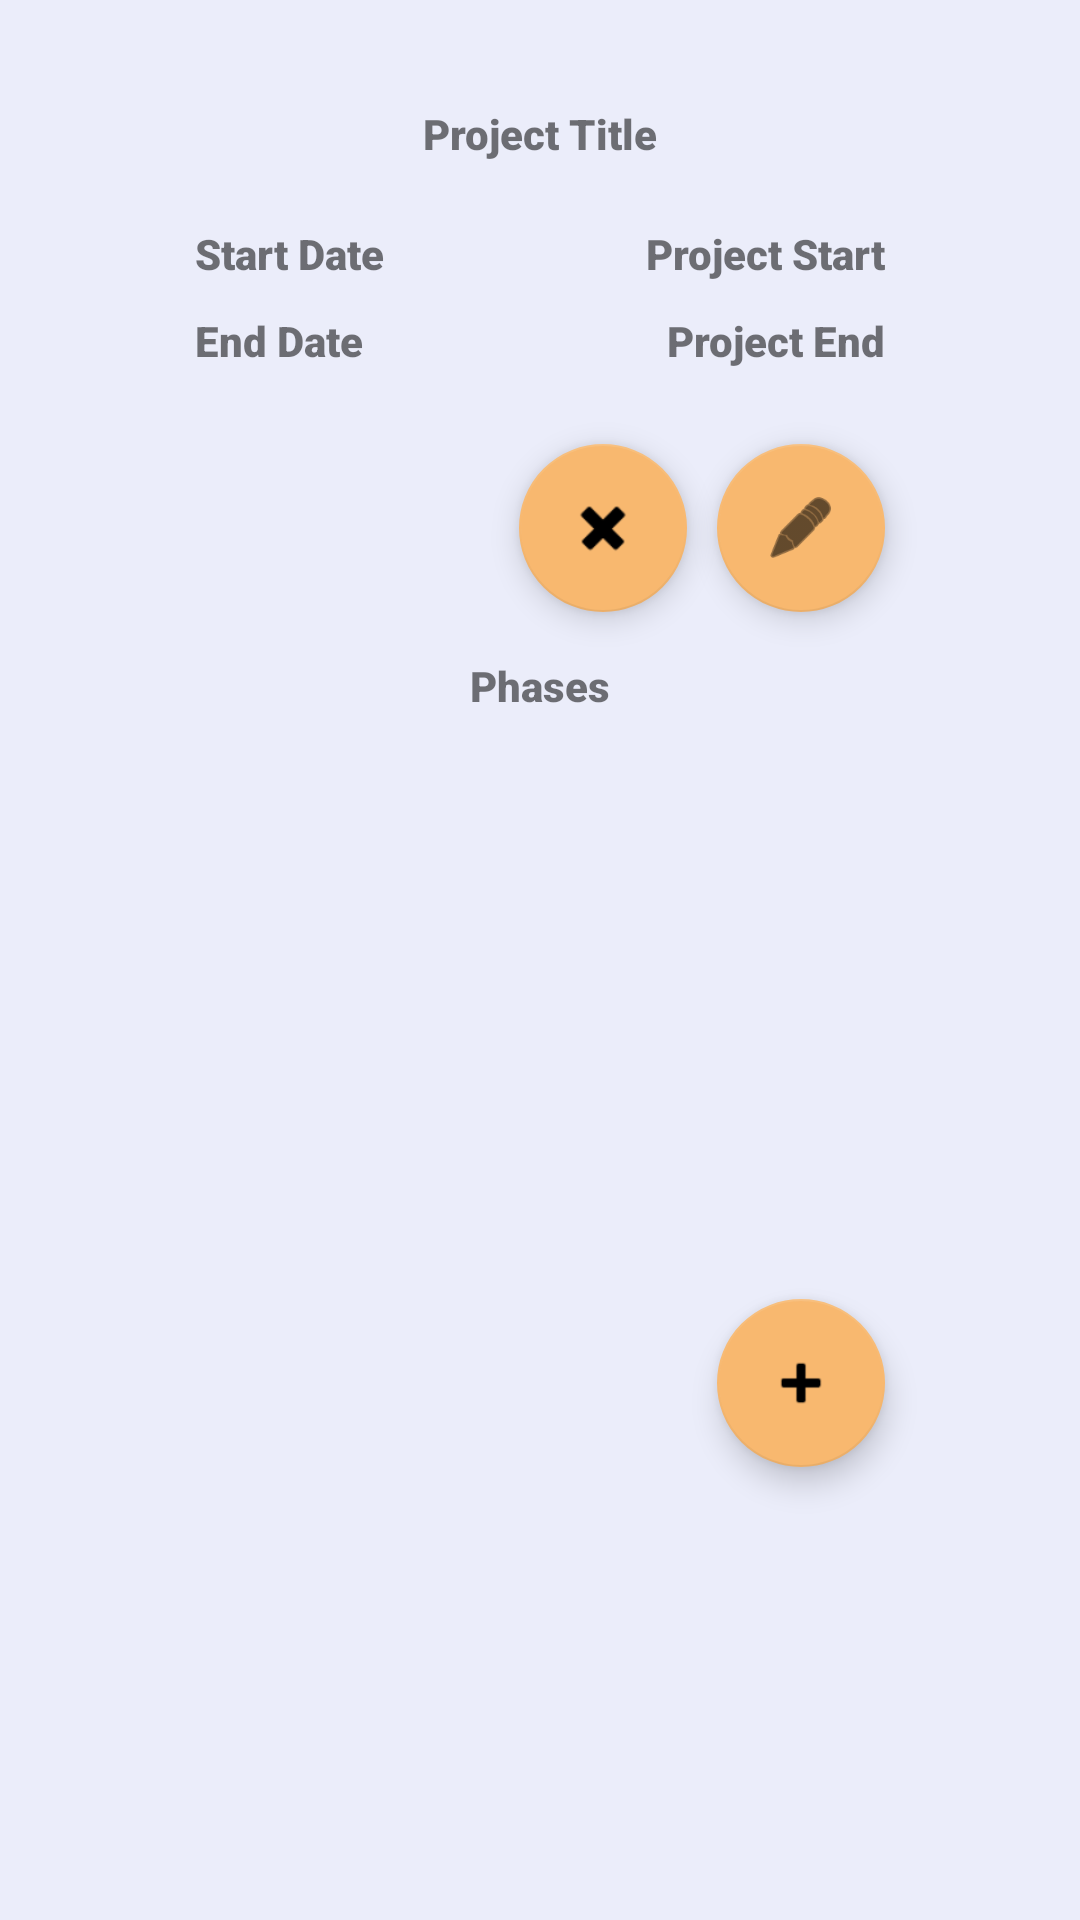

Where icons sit on this 1080px x 1920px app screen, as (x1, y1, x2, y2):
add: (717, 1299, 885, 1467)
delete: (519, 444, 687, 612)
edit: (717, 444, 885, 612)
